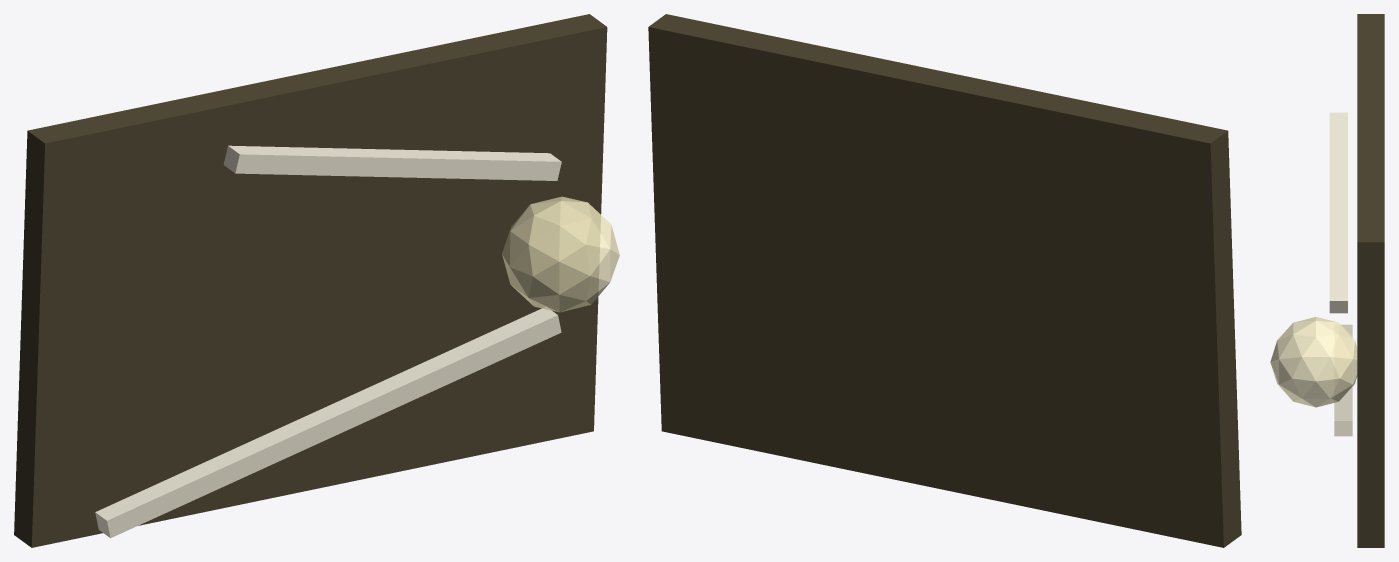
The model's file is 02_world_prop_polish.glb.
The picture shows the model from 3 angles, left to right: view 1: azimuth 30°, elevation 25°; view 2: azimuth 150°, elevation 25°; view 3: azimuth 270°, elevation 25°; orthographic projection. The views are drawn at different scales.
Visible parts, largest first — view 1: object_overlay_plate, edge_wear_a, glow_socket, edge_wear_b; view 2: object_overlay_plate; view 3: object_overlay_plate, glow_socket, edge_wear_b, edge_wear_a.
Boxes of the visible parts, x1,y1,x2,y2 form: object_overlay_plate: [14, 14, 607, 547]; edge_wear_a: [95, 307, 561, 538]; glow_socket: [502, 196, 619, 312]; edge_wear_b: [223, 145, 561, 180]; object_overlay_plate: [648, 14, 1241, 547]; object_overlay_plate: [1357, 14, 1384, 547]; glow_socket: [1270, 317, 1357, 407]; edge_wear_b: [1329, 112, 1347, 313]; edge_wear_a: [1334, 324, 1352, 436].
Size of the model in its own units: 1.13 by 0.7879 by 0.25.
